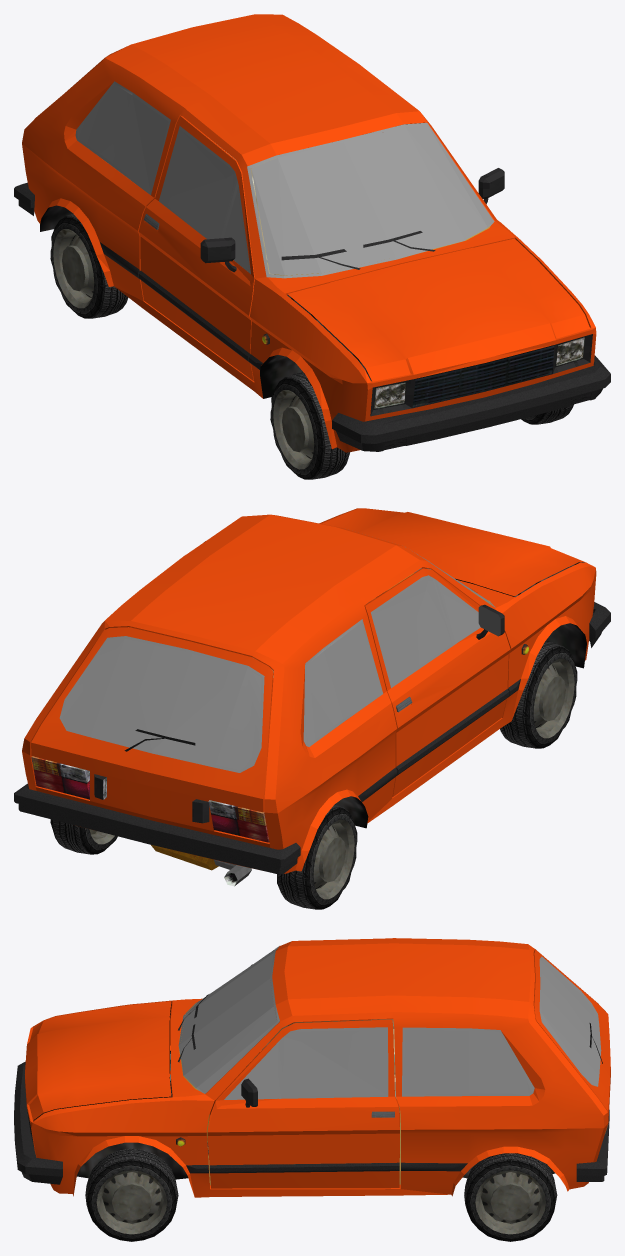
Rendered from Skala.FBX.
3 views of the same model, one above another, from view 1: azimuth 30°, elevation 25°; view 2: azimuth 150°, elevation 25°; view 3: azimuth 270°, elevation 25° (orthographic). The views are drawn at different scales.
Visible parts, largest first — view 1: Body, Windshield, Hood, Right Door, Front Bumper, Rear Windows, Wheel_FR, Wheel_RR, Left Door; view 2: Body, Trunk, Right Door, Hood, Rear Bumper, Rear Windows, Wheel_FR, Wheel_RR, Wheel_RL, Front Bumper; view 3: Body, Left Door, Hood, Rear Windows, Windshield, Wheel_FL, Wheel_RL, Trunk, Front Bumper, Rear Bumper.
Part boxes in pixels (box(x1,y1,x2,y2)): Body: box(22, 14, 596, 452); Windshield: box(247, 122, 494, 278); Hood: box(287, 238, 589, 381); Right Door: box(138, 116, 254, 381); Front Bumper: box(332, 355, 610, 451); Rear Windows: box(75, 81, 170, 194); Wheel_FR: box(270, 372, 350, 479); Wheel_RR: box(50, 213, 128, 318); Left Door: box(478, 168, 504, 204); Body: box(22, 508, 596, 886); Trunk: box(31, 627, 273, 812); Right Door: box(364, 568, 510, 796); Hood: box(321, 508, 584, 597); Rear Bumper: box(14, 783, 300, 874); Rear Windows: box(303, 619, 383, 746); Wheel_FR: box(500, 641, 577, 748); Wheel_RR: box(277, 804, 357, 909); Wheel_RL: box(50, 819, 117, 854); Front Bumper: box(589, 602, 610, 647); Body: box(25, 938, 609, 1197); Left Door: box(207, 1019, 399, 1188); Hood: box(25, 1001, 171, 1120); Rear Windows: box(402, 1027, 534, 1096); Windshield: box(178, 946, 279, 1093); Wheel_FL: box(85, 1148, 178, 1241); Wheel_RL: box(464, 1153, 557, 1241); Trunk: box(533, 950, 610, 1121); Front Bumper: box(14, 1061, 62, 1184); Rear Bumper: box(576, 1110, 609, 1181).
Size of the model in its own units: 2.1 by 1.71 by 4.17.
Materials: 14 (9 with a texture image).
